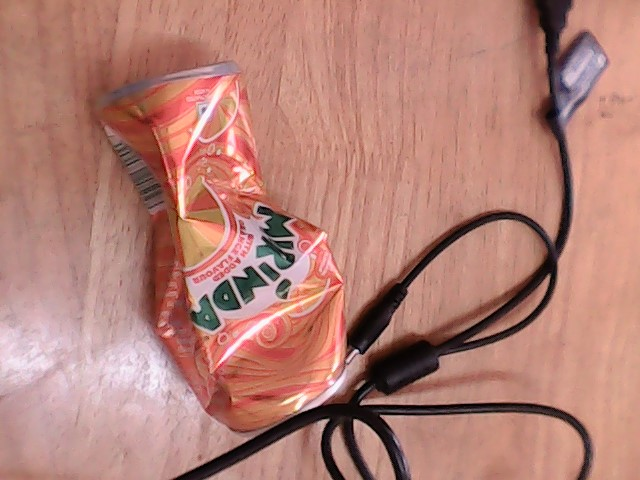Metal: (91, 97, 348, 413)
